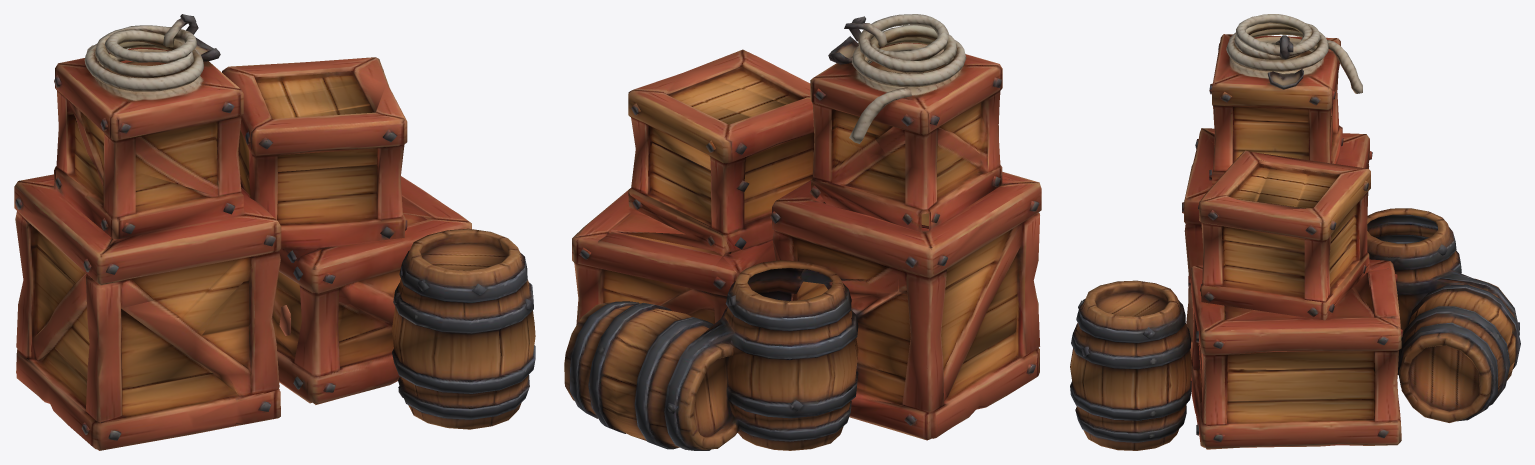
Rendered from model_url.glb.
3 views of the same model, side by side, from view 1: azimuth 30°, elevation 25°; view 2: azimuth 150°, elevation 25°; view 3: azimuth 270°, elevation 25° (orthographic). The views are drawn at different scales.
Parts seen in each view (by area): view 1: tripo_node_7217f3c6-f69f-4295-a80e-433a7995bbf8; view 2: tripo_node_7217f3c6-f69f-4295-a80e-433a7995bbf8; view 3: tripo_node_7217f3c6-f69f-4295-a80e-433a7995bbf8.
Part boxes in pixels (left/top/right/bottom): tripo_node_7217f3c6-f69f-4295-a80e-433a7995bbf8: left=14, top=14, right=535, bottom=450; tripo_node_7217f3c6-f69f-4295-a80e-433a7995bbf8: left=564, top=14, right=1041, bottom=450; tripo_node_7217f3c6-f69f-4295-a80e-433a7995bbf8: left=1070, top=14, right=1520, bottom=450.
Size of the model in its own units: 0.8513 by 0.7906 by 1.
1 material, 1 textured.
